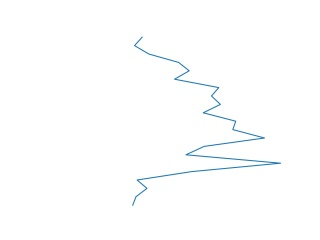floodSwamp: (127, 38, 287, 206)
